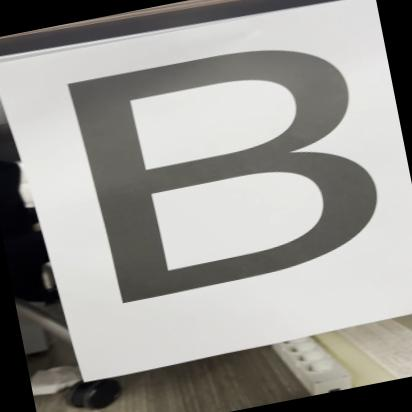seat: (24, 3, 409, 330)
